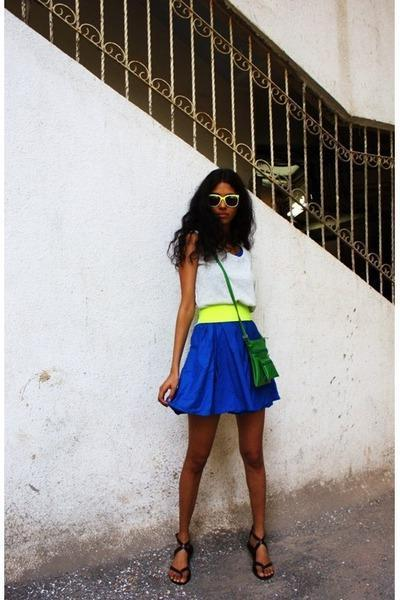skirt: (158, 320, 280, 419)
vest: (187, 238, 262, 312)
